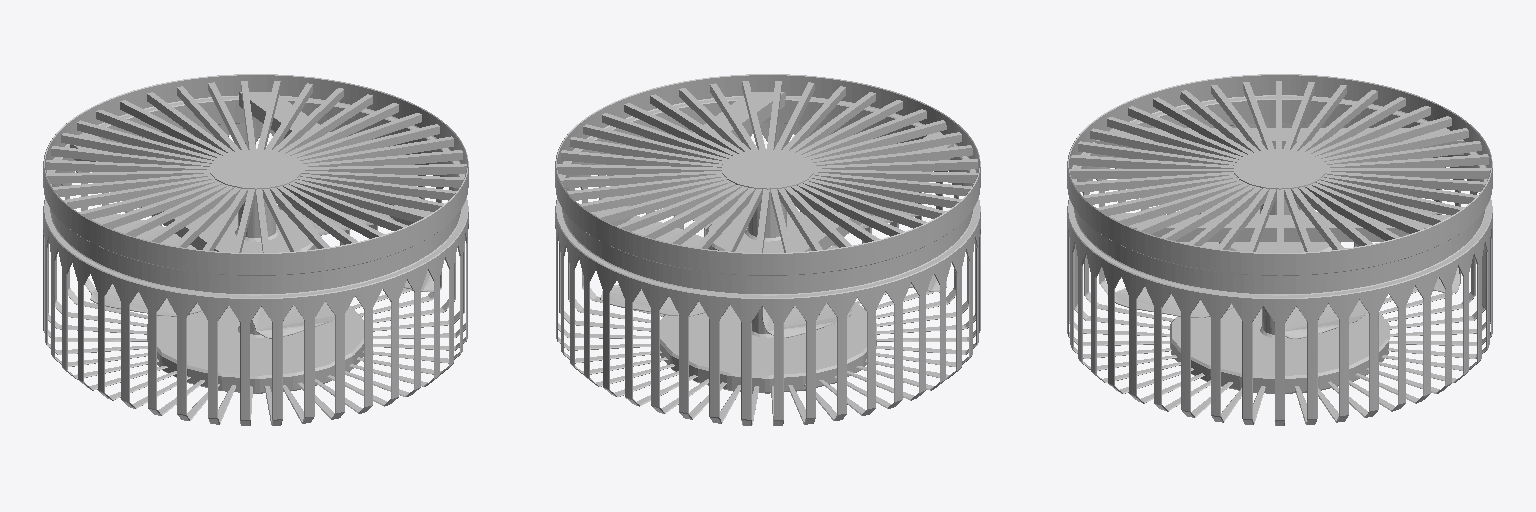
Rendered from Fan.obj.
3 views of the same model, side by side, from view 1: azimuth 30°, elevation 25°; view 2: azimuth 150°, elevation 25°; view 3: azimuth 270°, elevation 25° (orthographic).
Visible parts, largest first — view 1: Box043; view 2: Box043; view 3: Box043.
Boxes of the visible parts, <box> form: Box043: <box>43,74,468,425</box>; Box043: <box>555,74,980,425</box>; Box043: <box>1067,74,1492,425</box>.
Size of the model in its own units: 124 by 59.6 by 124.